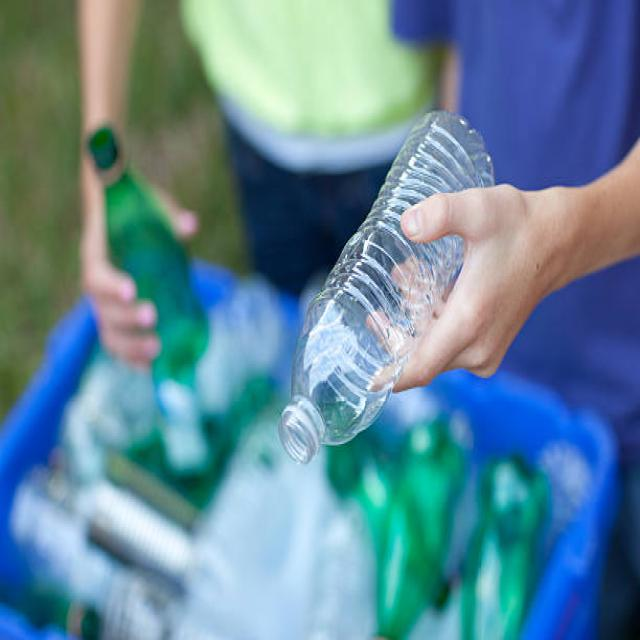plastic: (281, 116, 491, 464)
